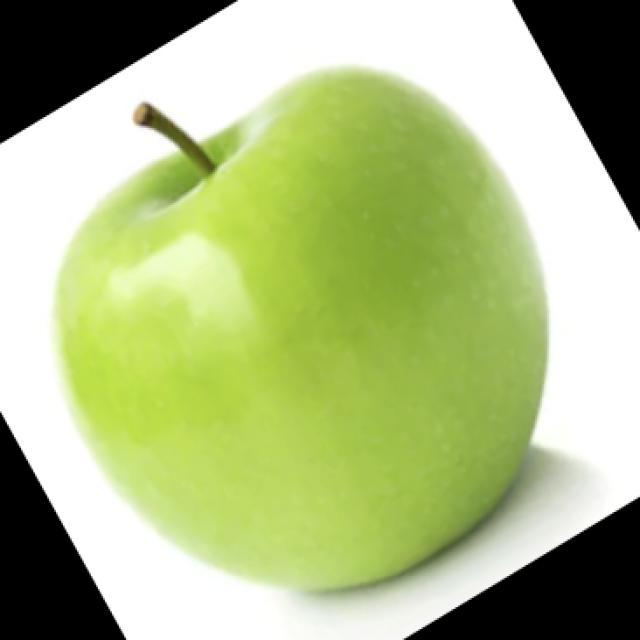Fresh Apple: (50, 84, 543, 588)
